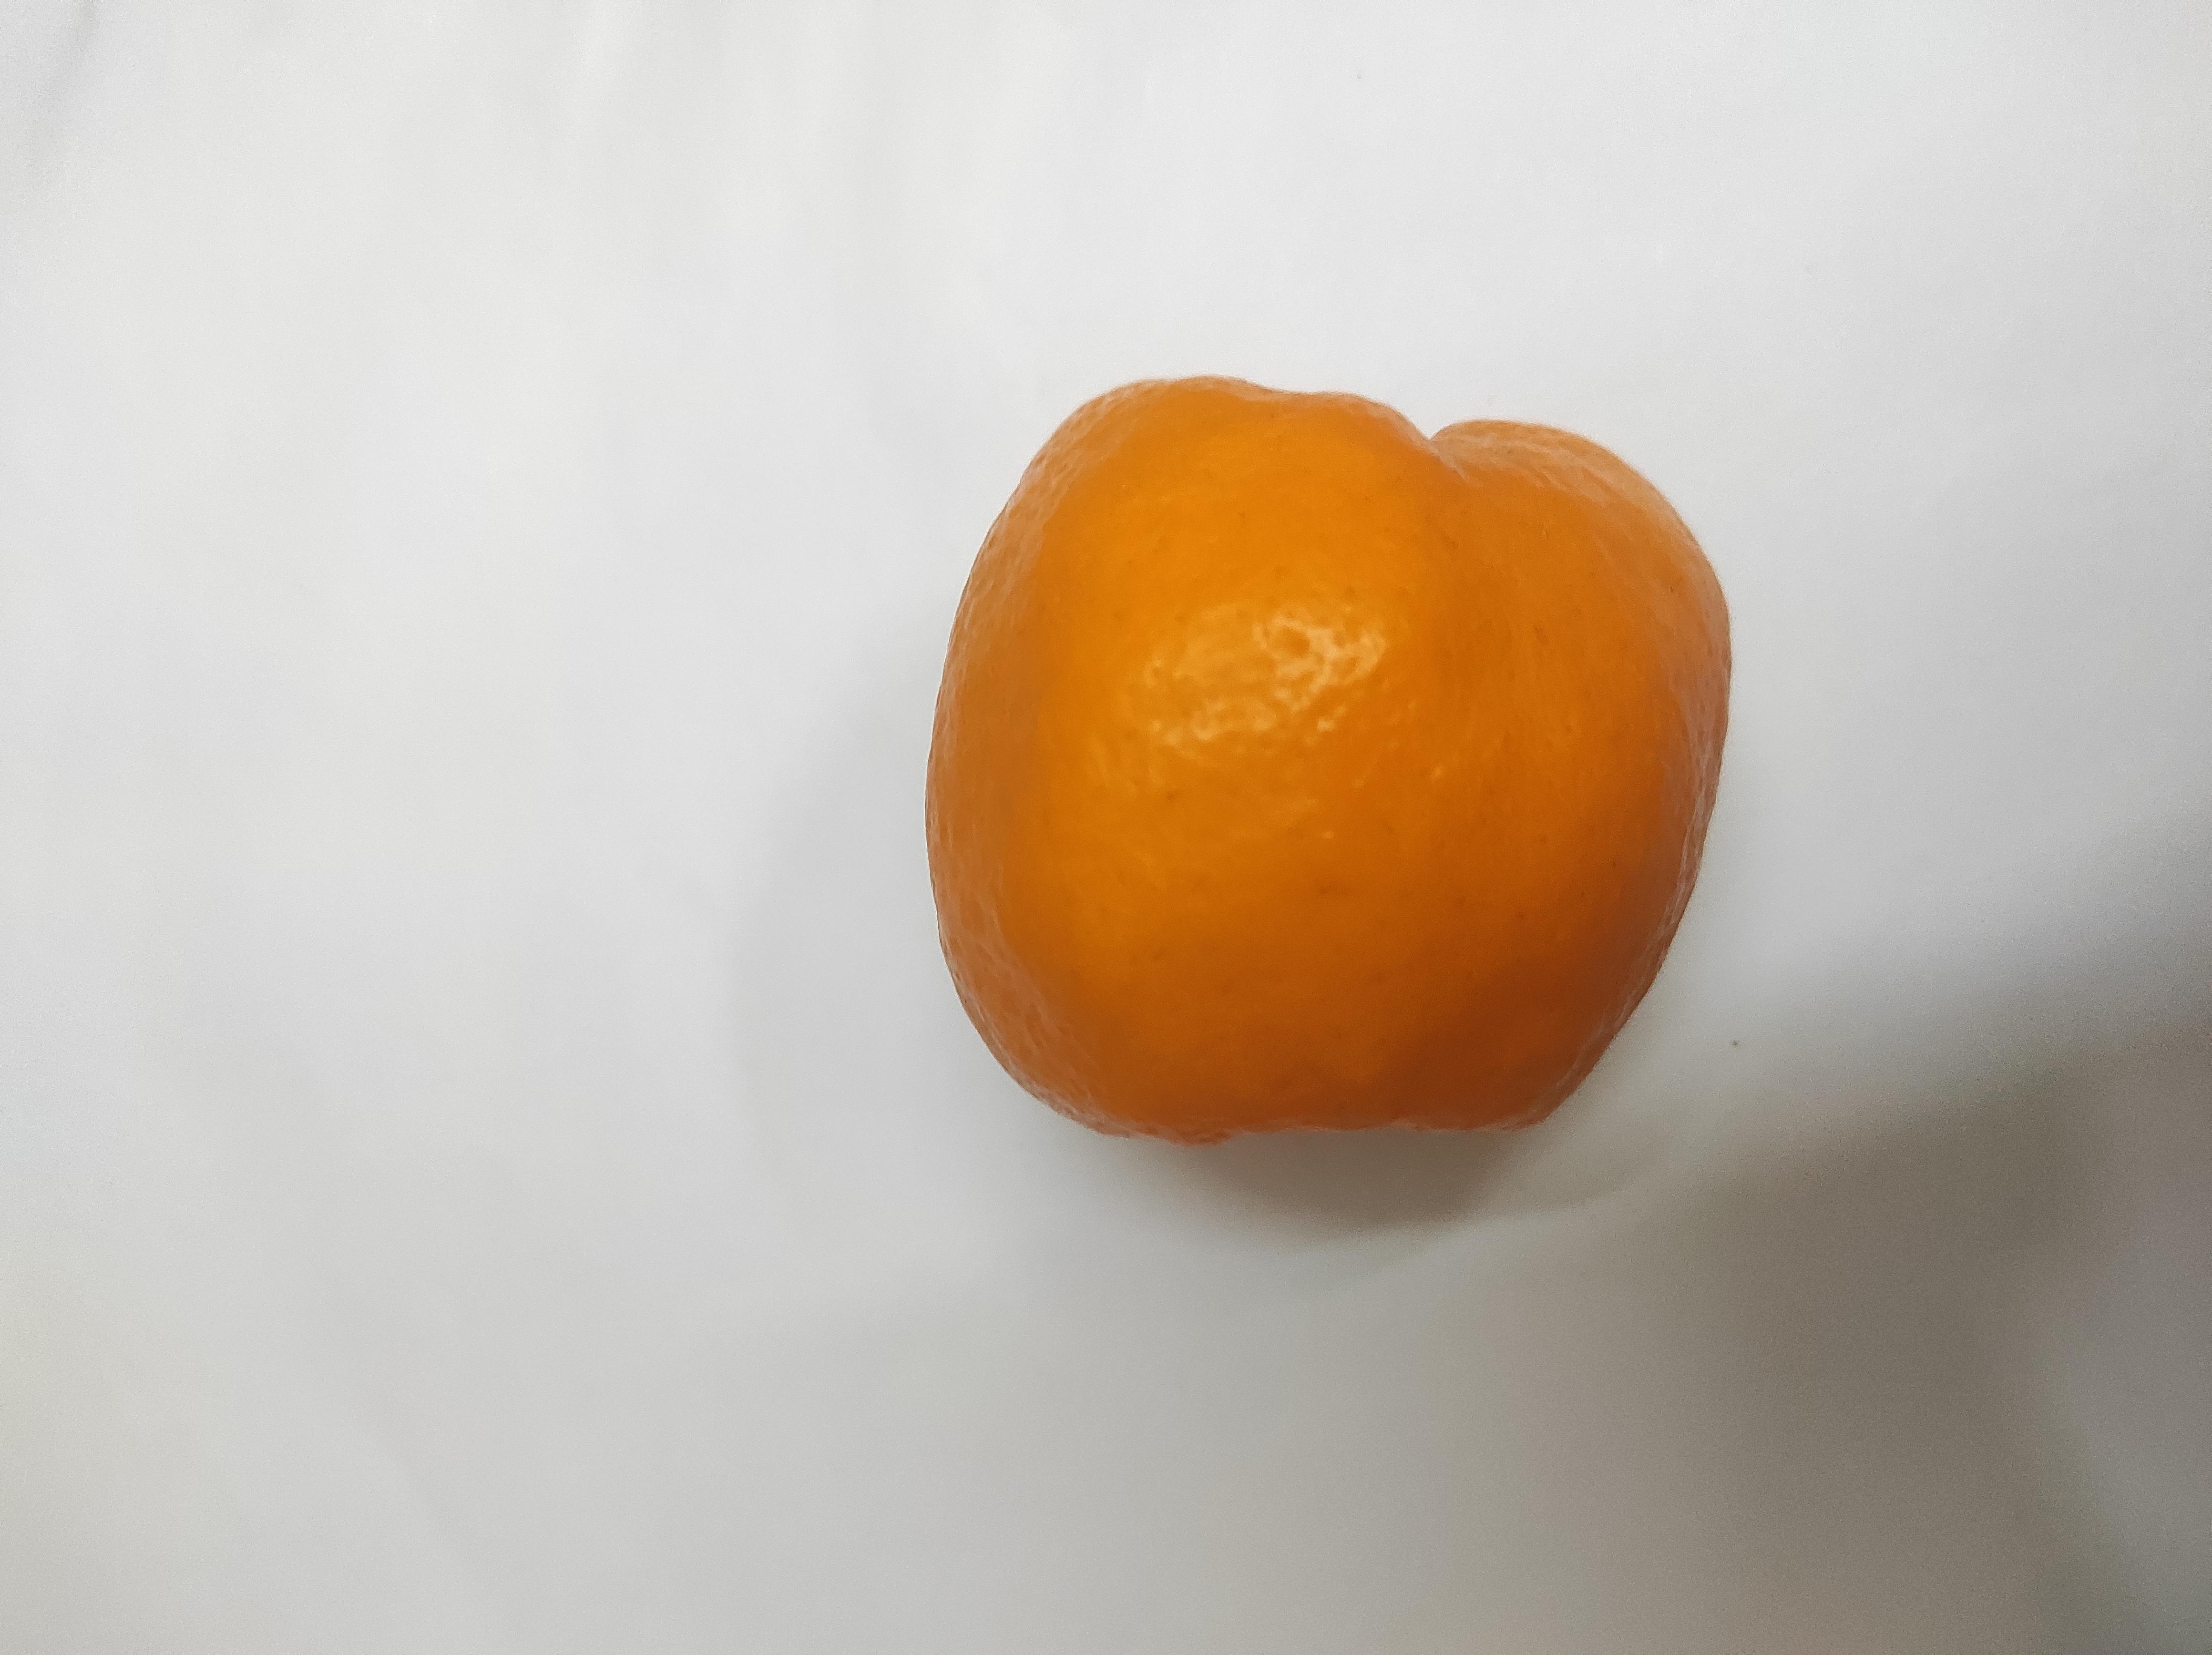Ripe: (675, 685, 1708, 1299)
